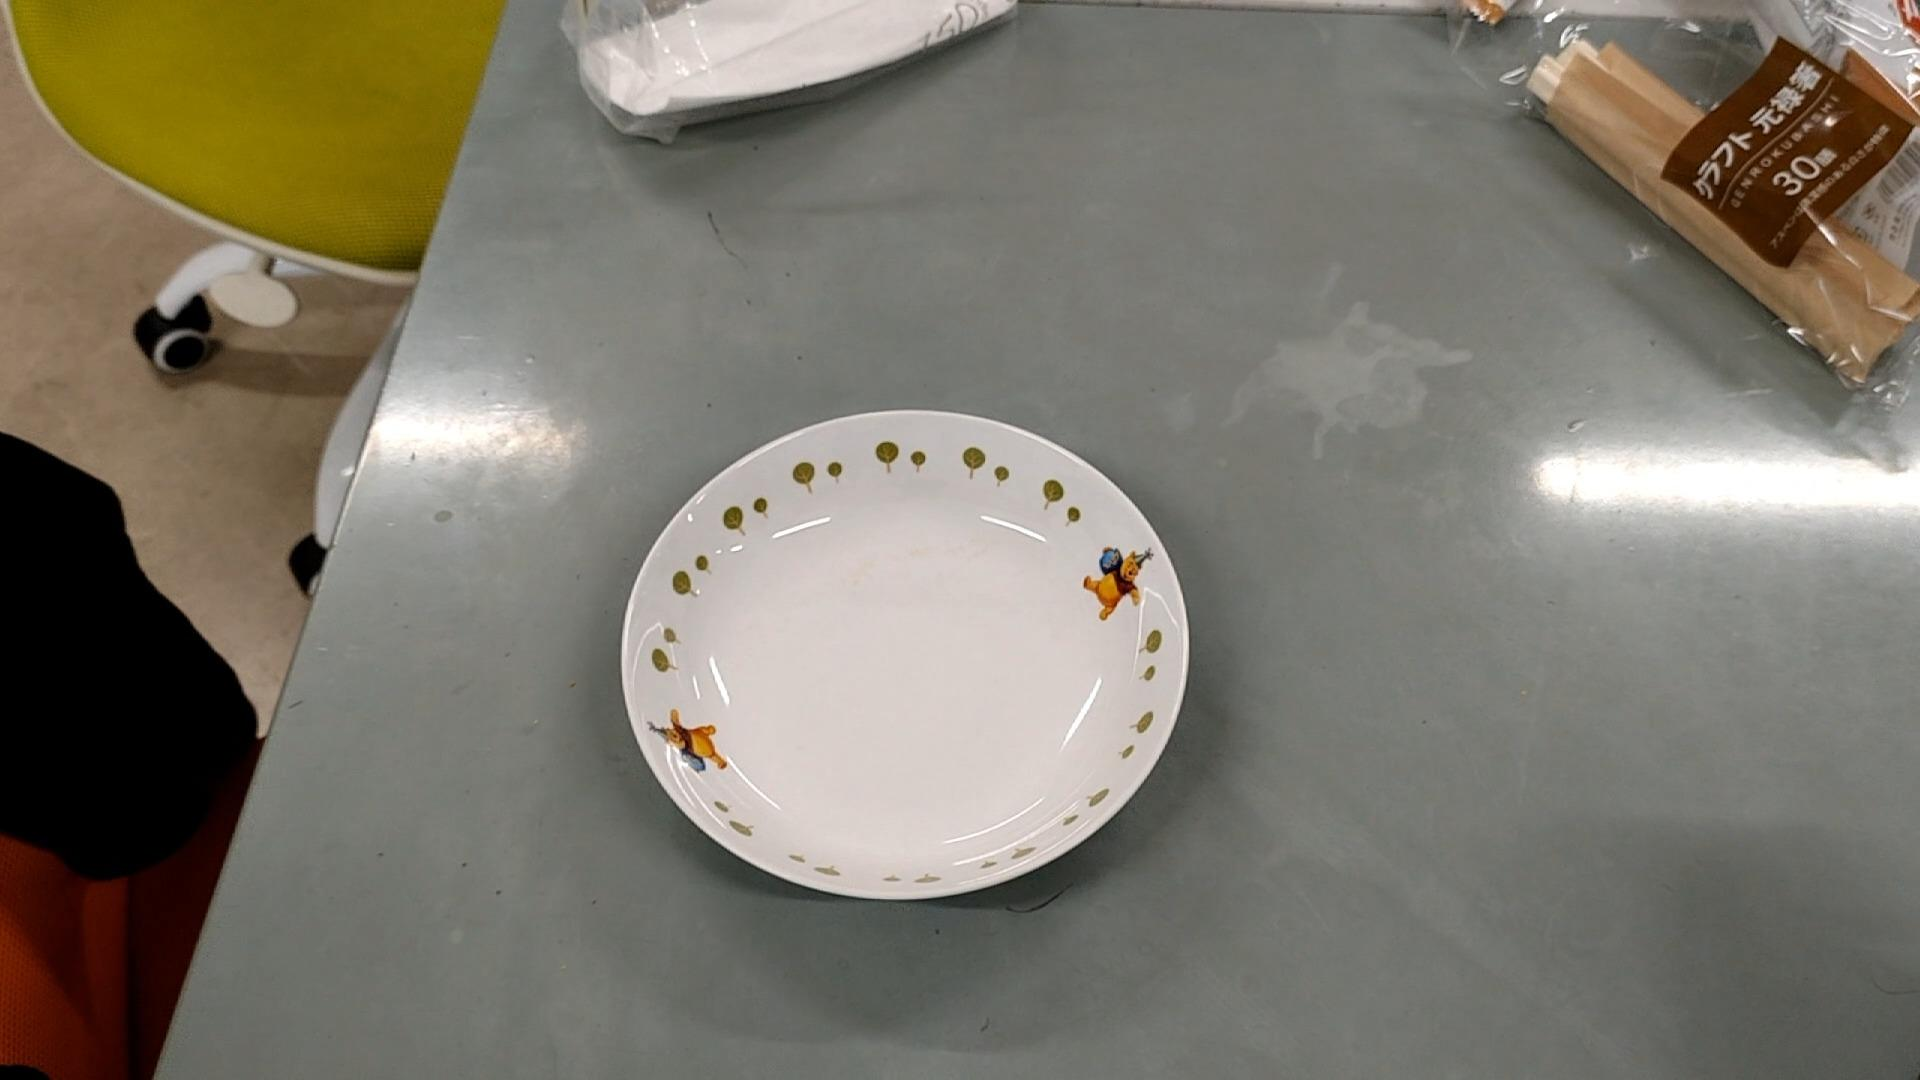plate: (625, 410, 1189, 902)
